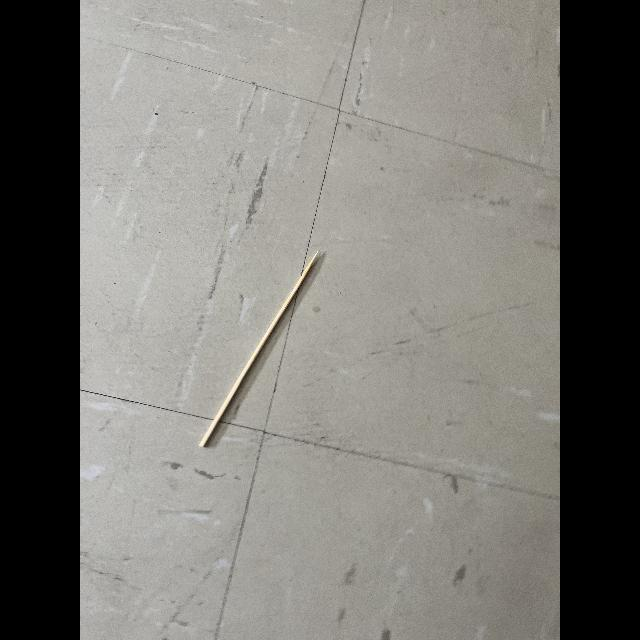stick: (196, 244, 324, 461)
